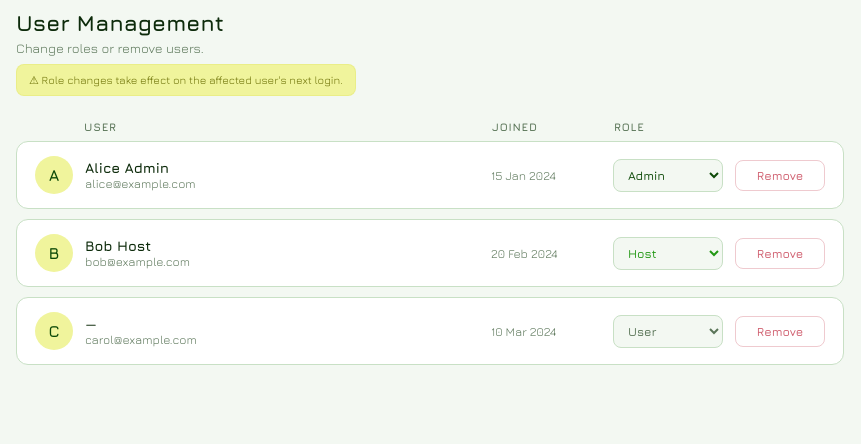
Test: AdminPanel — role change › shows network error when role PATCH throws
Expected: the text "Bob Host" is shown, x1=85 y1=237 x2=151 y2=254
Select "Admin" in the dropdown next to "20 Feb 2024": (668, 253) x1=613 y1=236 x2=723 y2=270
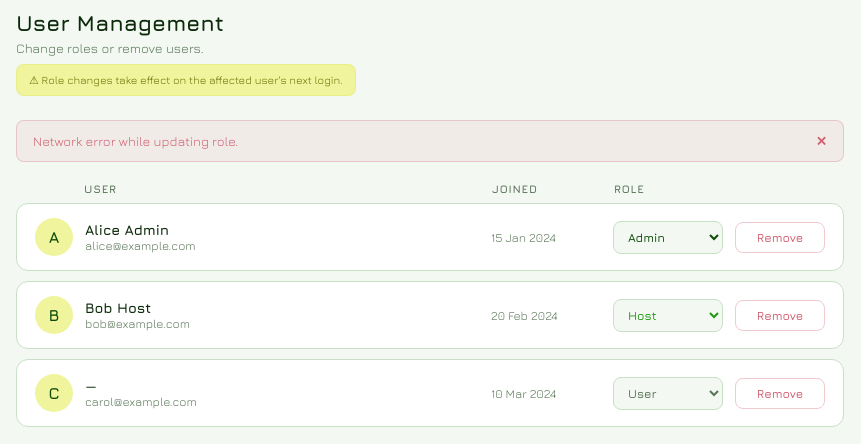
Expected: the text "Network error while updating role. ✕" is shown, x1=16 y1=120 x2=844 y2=162
